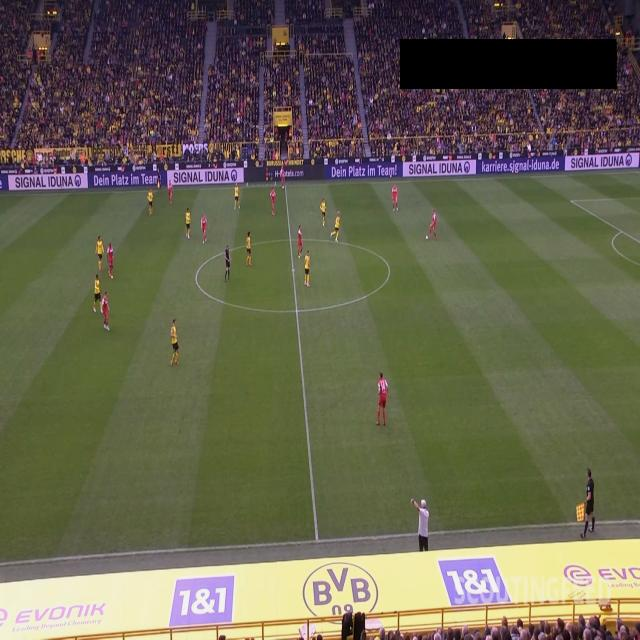ball: (424, 233, 432, 244)
f_player: (96, 292, 115, 334), (375, 373, 389, 429), (170, 318, 182, 366), (105, 244, 121, 280), (92, 272, 102, 312), (428, 210, 440, 240), (243, 230, 253, 266), (332, 210, 342, 243), (95, 236, 105, 267), (303, 253, 312, 287), (268, 187, 278, 216), (232, 182, 242, 208), (278, 167, 288, 193), (185, 210, 193, 240), (166, 181, 176, 205), (200, 216, 208, 244), (318, 200, 326, 228), (392, 186, 400, 212), (148, 191, 156, 217), (298, 224, 304, 253)
umpire: (580, 469, 604, 537), (223, 244, 233, 282), (155, 164, 163, 187)
